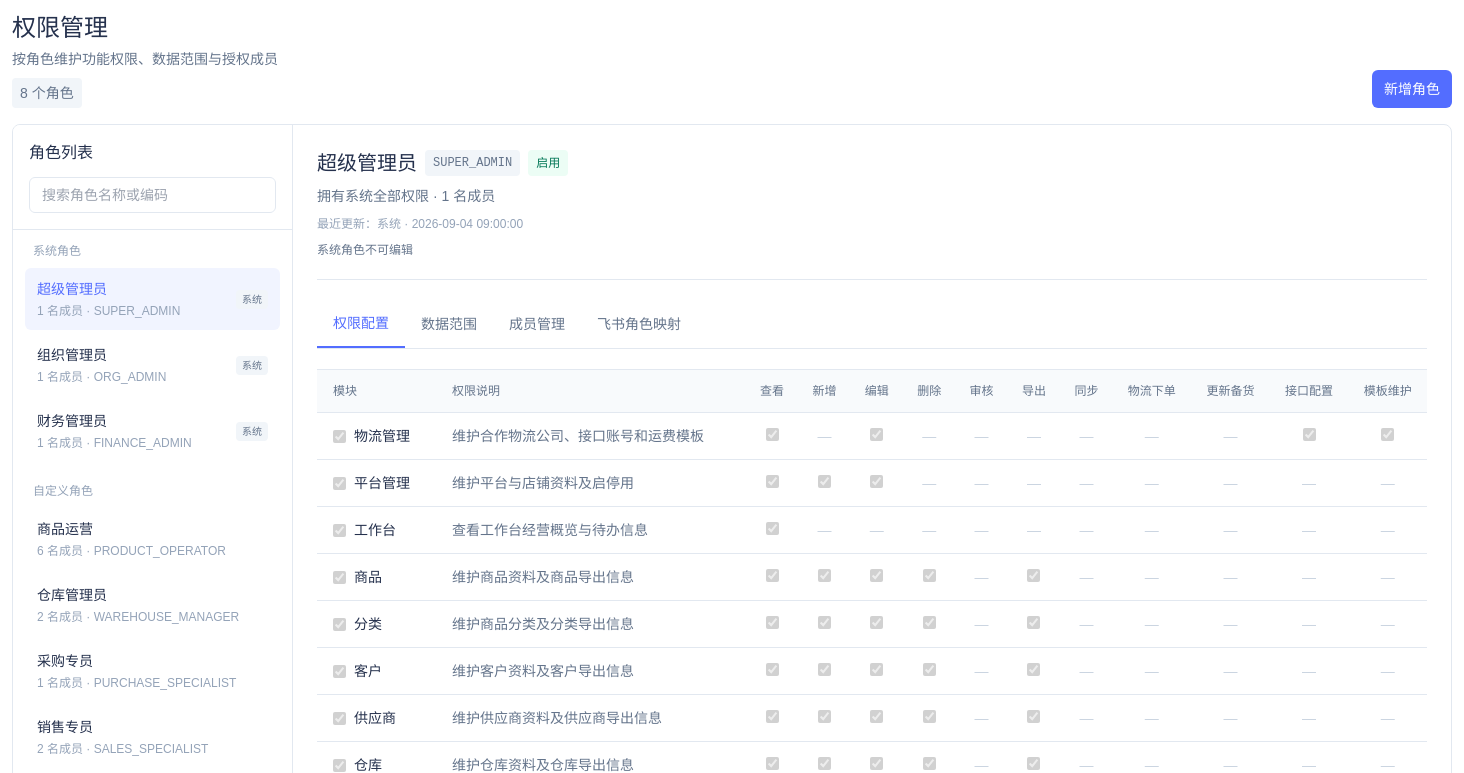
Test: PermissionManagementView › keeps the latest role selection when an earlier selection resolves late
This screenshot has width=1464, height=773.
Click the button with test id "role-item-4". click: (152, 539)
box: left=25, top=508, right=280, bottom=570
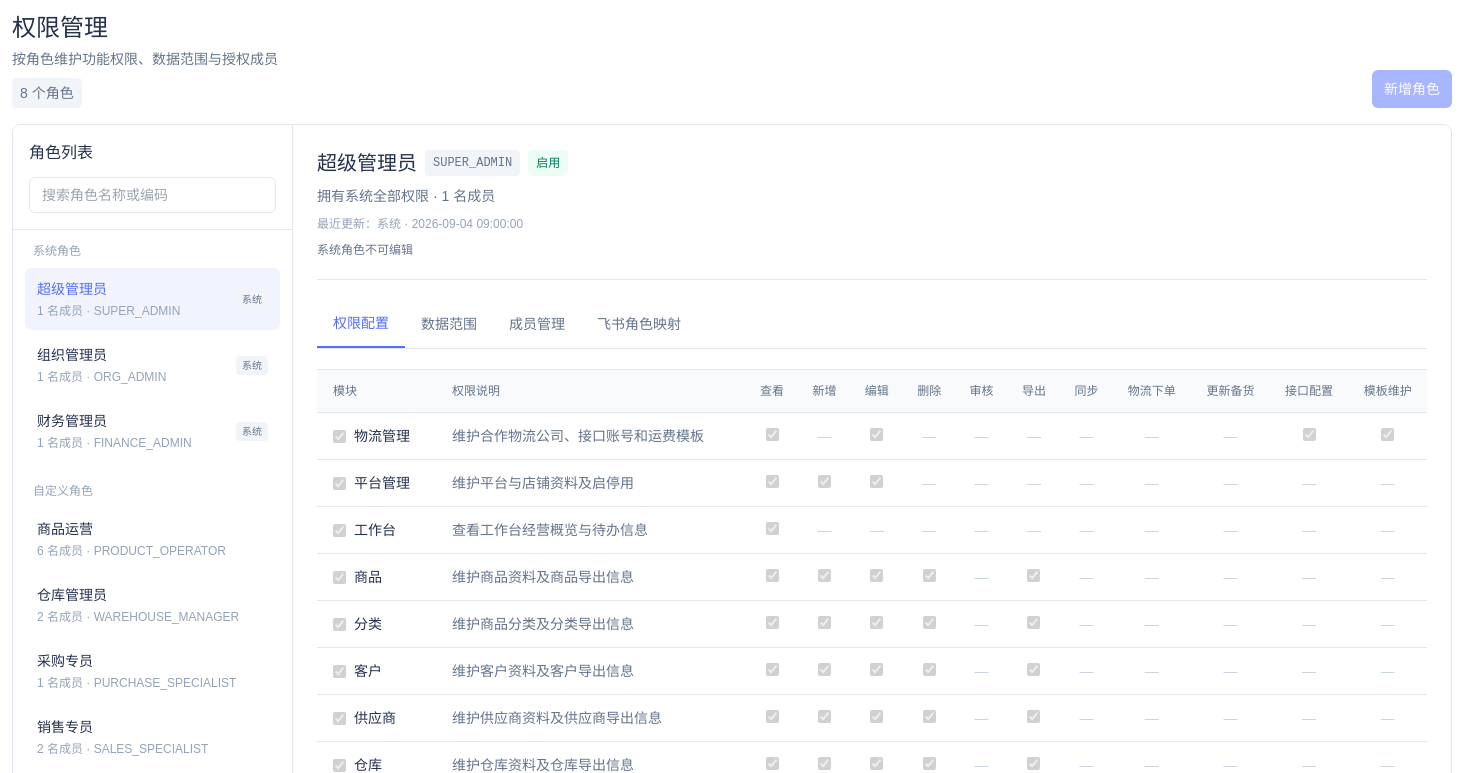
Click the button with test id "role-item-5". click: (152, 605)
box: left=25, top=574, right=280, bottom=636
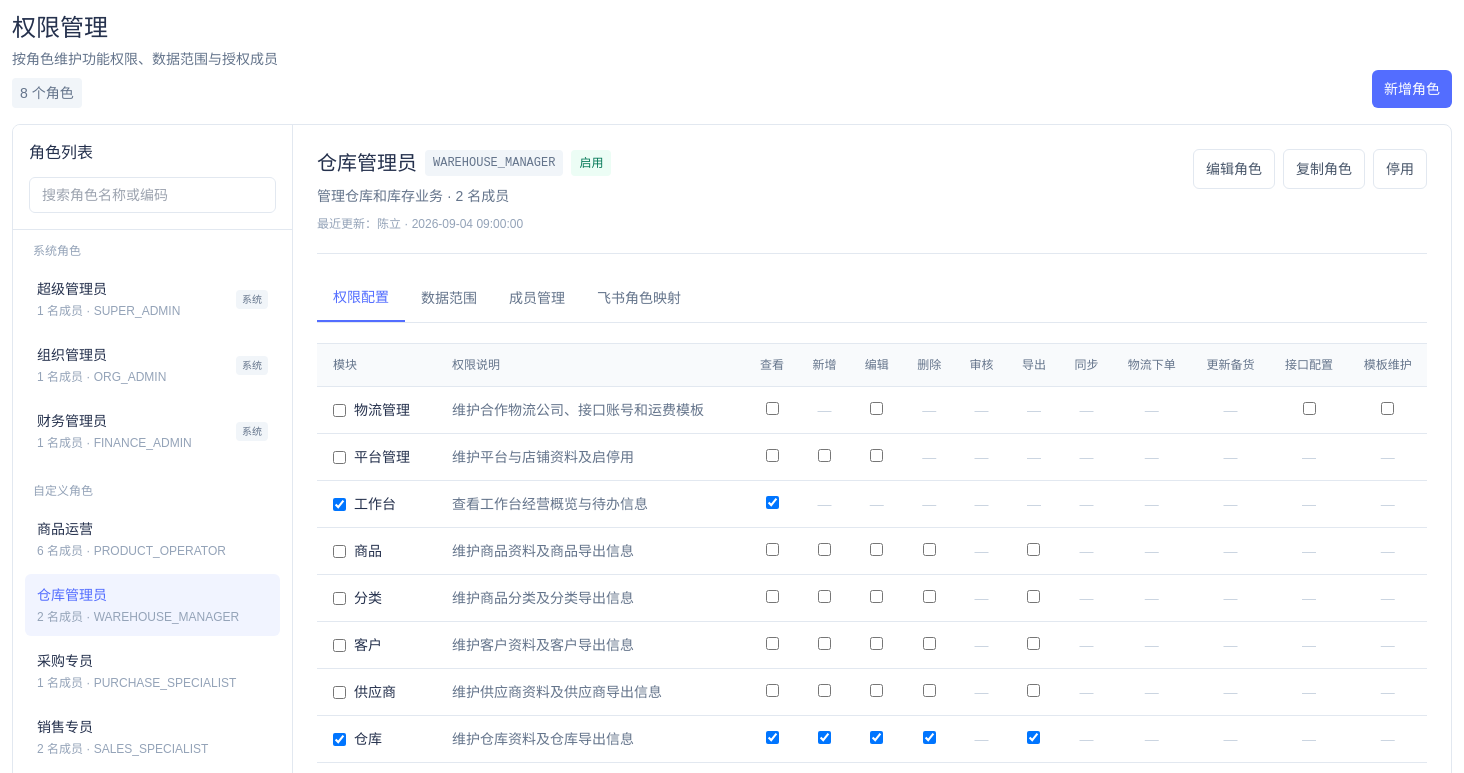
expect the text with test id "selected-role-code" reads "WAREHOUSE_MANAGER": met, box left=433, top=156, right=555, bottom=170
